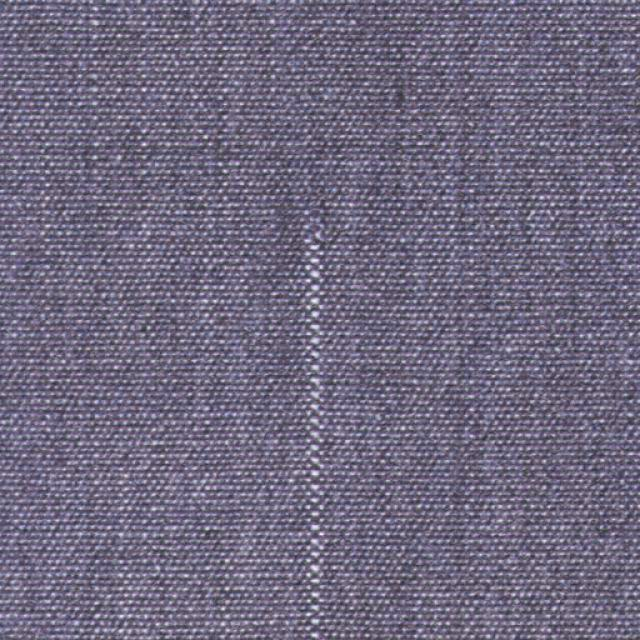Thread_other: (236, 198, 410, 620)
